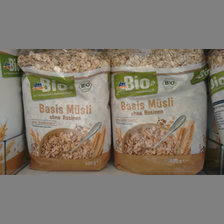cereal: (110, 49, 209, 175), (18, 49, 111, 170)
